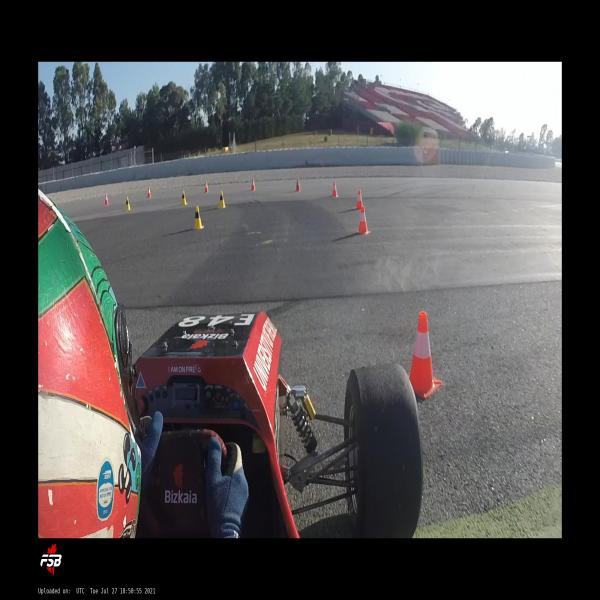orange_cone: (409, 312, 442, 398), (356, 205, 371, 234), (355, 190, 364, 208), (332, 182, 338, 198), (295, 179, 301, 192), (250, 179, 256, 191), (204, 181, 208, 193), (104, 194, 108, 204), (147, 188, 151, 198)
yellow_cone: (193, 206, 204, 229), (218, 191, 227, 209), (180, 190, 188, 206), (124, 196, 130, 212)
